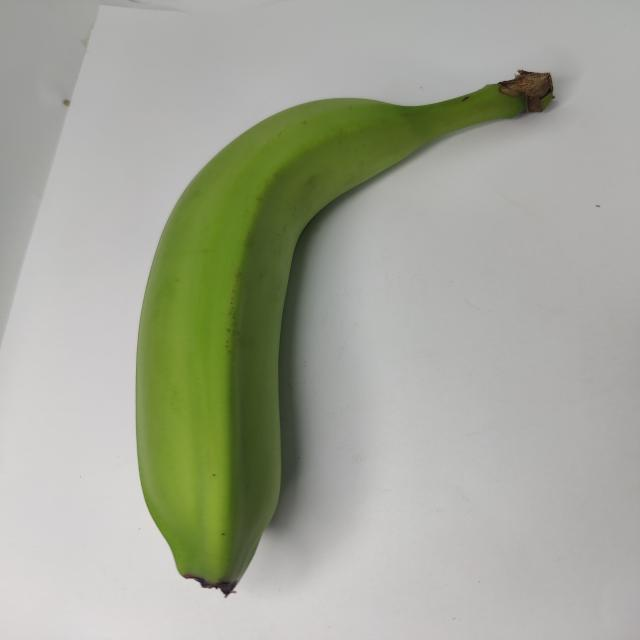raw: (98, 42, 562, 598)
